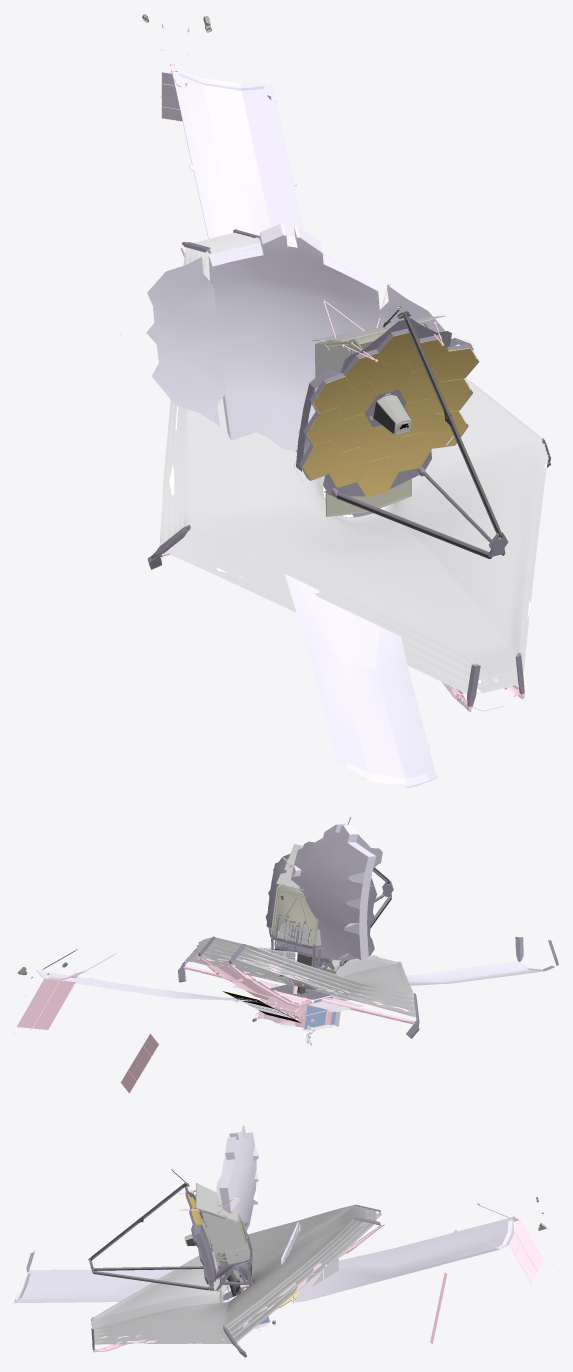
3 renders of one model, top to bottom at view 1: azimuth 30°, elevation 25°; view 2: azimuth 150°, elevation 25°; view 3: azimuth 270°, elevation 25°, orthographic. The views are drawn at different scales.
Parts seen in each view (by area): view 1: James_Webb_Space_Telescope:aft_flap_assy1, James_Webb_Space_Telescope:poly_p2_l1, James_Webb_Space_Telescope:mirror10, James_Webb_Space_Telescope:asm_corecovrs_hr_car_v002:corcvr, James_Webb_Space_Telescope:basecylinder2, James_Webb_Space_Telescope:low_rads, James_Webb_Space_Telescope:stray_h1_brace1; view 2: James_Webb_Space_Telescope:aft_flap_assy1, James_Webb_Space_Telescope:poly_p2_l1, James_Webb_Space_Telescope:asm_corecovrs_hr_car_v002:corcvr, James_Webb_Space_Telescope:midstr_t_wrap, James_Webb_Space_Telescope:bus_body, James_Webb_Space_Telescope:aft_ups_asssy, James_Webb_Space_Telescope:low_rads, James_Webb_Space_Telescope:bus_rad1_pan, James_Webb_Space_Telescope:mboom1_base_boom, James_Webb_Space_Telescope:slrpnl1, James_Webb_Space_Telescope:poly_p2_l1_bot, James_Webb_Space_Telescope:battery_ssm (+3 smaller); view 3: James_Webb_Space_Telescope:poly_p2_l1, James_Webb_Space_Telescope:aft_flap_assy1, James_Webb_Space_Telescope:asm_corecovrs_hr_car_v002:corcvr, James_Webb_Space_Telescope:low_rads, James_Webb_Space_Telescope:basecylinder2, James_Webb_Space_Telescope:poly_p2_l1_bot, James_Webb_Space_Telescope:slrpnl1, James_Webb_Space_Telescope:midstr_t_plate1.
Boxes of the visible parts, box(x1,y1,x2,y2) form: James_Webb_Space_Telescope:aft_flap_assy1: box(41, 63, 458, 787); James_Webb_Space_Telescope:poly_p2_l1: box(159, 232, 548, 694); James_Webb_Space_Telescope:mirror10: box(302, 332, 477, 497); James_Webb_Space_Telescope:asm_corecovrs_hr_car_v002:corcvr: box(182, 229, 524, 706); James_Webb_Space_Telescope:basecylinder2: box(337, 319, 504, 558); James_Webb_Space_Telescope:low_rads: box(312, 315, 445, 377); James_Webb_Space_Telescope:stray_h1_brace1: box(325, 472, 418, 516); James_Webb_Space_Telescope:aft_flap_assy1: box(16, 824, 558, 1093); James_Webb_Space_Telescope:poly_p2_l1: box(186, 937, 416, 1017); James_Webb_Space_Telescope:asm_corecovrs_hr_car_v002:corcvr: box(198, 853, 401, 970); James_Webb_Space_Telescope:midstr_t_wrap: box(273, 884, 319, 945); James_Webb_Space_Telescope:bus_body: box(258, 984, 333, 1029); James_Webb_Space_Telescope:aft_ups_asssy: box(197, 956, 298, 1006); James_Webb_Space_Telescope:low_rads: box(270, 844, 321, 945); James_Webb_Space_Telescope:bus_rad1_pan: box(233, 980, 361, 1045); James_Webb_Space_Telescope:mboom1_base_boom: box(185, 965, 414, 1024); James_Webb_Space_Telescope:slrpnl1: box(222, 990, 302, 1023); James_Webb_Space_Telescope:poly_p2_l1_bot: box(190, 951, 409, 1011); James_Webb_Space_Telescope:battery_ssm: box(304, 996, 335, 1029); James_Webb_Space_Telescope:poly_p2_l1: box(92, 1205, 376, 1344); James_Webb_Space_Telescope:aft_flap_assy1: box(14, 1125, 543, 1343); James_Webb_Space_Telescope:asm_corecovrs_hr_car_v002:corcvr: box(89, 1183, 380, 1349); James_Webb_Space_Telescope:low_rads: box(196, 1183, 249, 1264); James_Webb_Space_Telescope:basecylinder2: box(91, 1185, 240, 1296); James_Webb_Space_Telescope:poly_p2_l1_bot: box(100, 1211, 372, 1343); James_Webb_Space_Telescope:slrpnl1: box(274, 1258, 338, 1311); James_Webb_Space_Telescope:midstr_t_plate1: box(193, 1190, 249, 1265).
Size of the model in its own units: 15.61 by 14.01 by 34.71.
